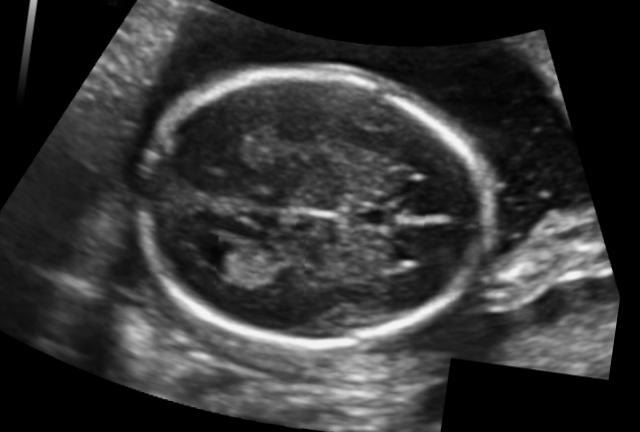CHOROID_PLEXUS: (212, 231, 310, 305)
CSP: (374, 196, 427, 245)
MIDLINE_FALX: (171, 163, 481, 262)
